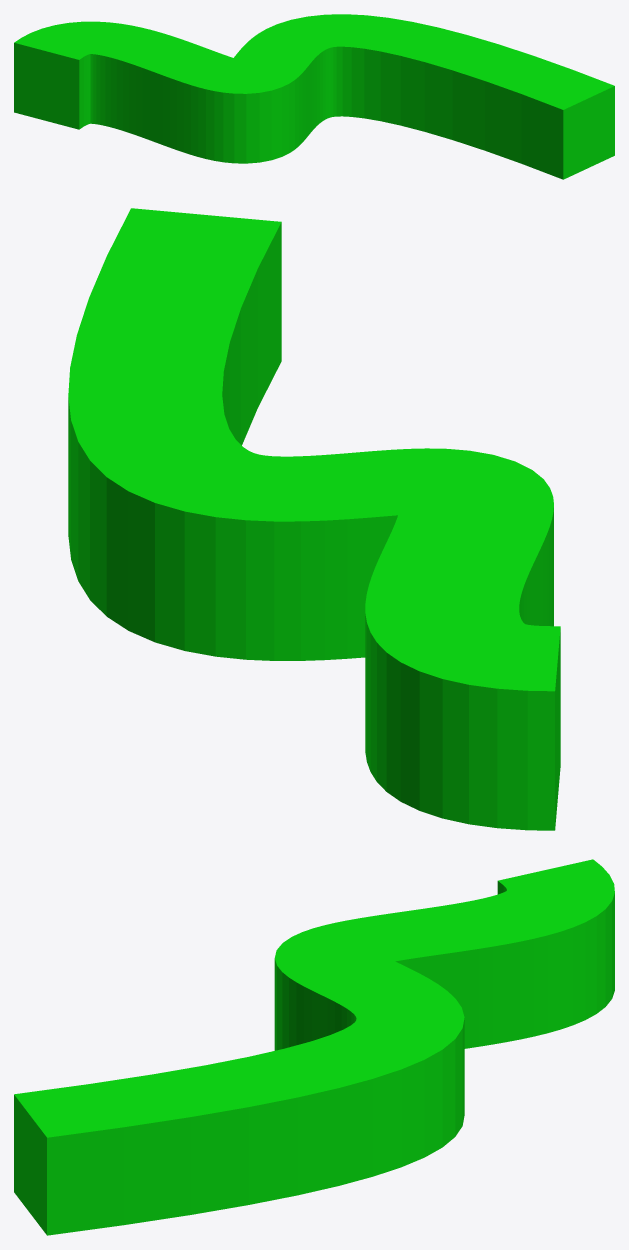
3 views of the same model, one above another, from view 1: azimuth 30°, elevation 25°; view 2: azimuth 150°, elevation 25°; view 3: azimuth 270°, elevation 25° (orthographic). The views are drawn at different scales.
Visible parts, largest first — view 1: NurbsPath; view 2: NurbsPath; view 3: NurbsPath.
Part boxes in pixels (bbox=[...]): NurbsPath: bbox=[14, 14, 614, 179]; NurbsPath: bbox=[68, 208, 560, 830]; NurbsPath: bbox=[14, 859, 614, 1235].
Bounding box in the file's own units: 305 × 50 × 278.
